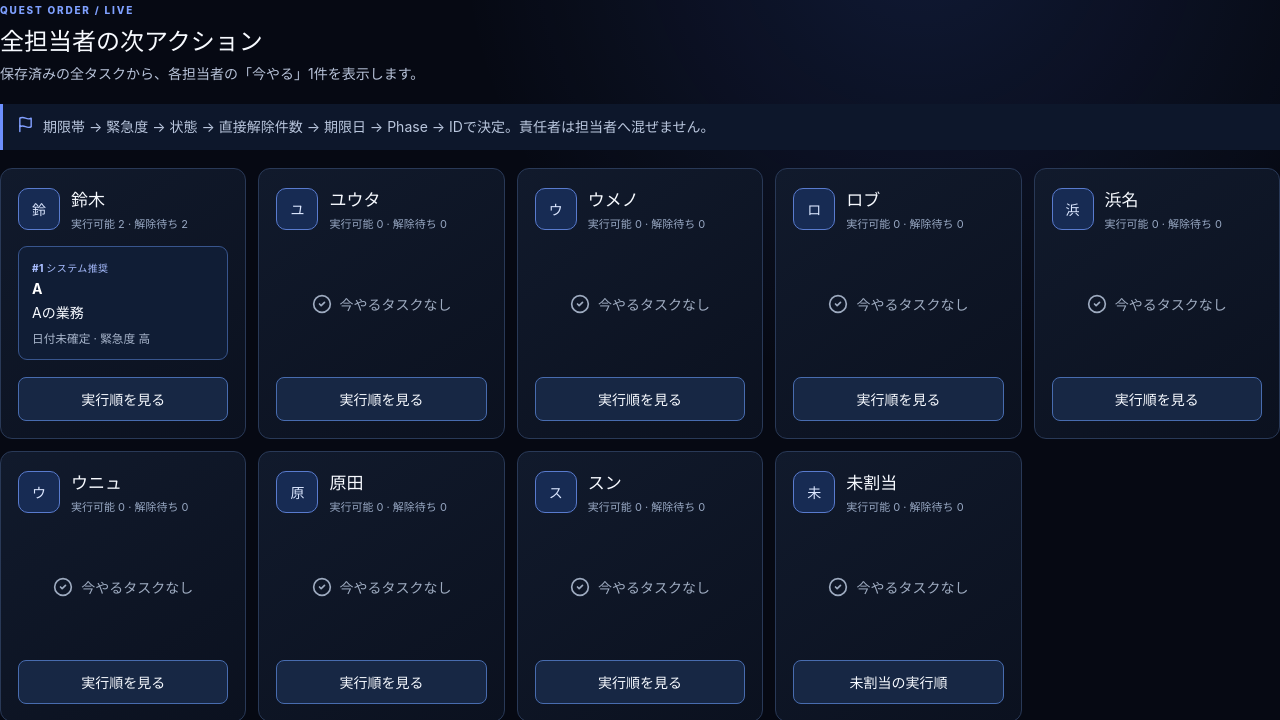
Test: QuestBoard › opens an assignee detail with now, ordered next, waiting and collapsed completion log
This screenshot has width=1280, height=720.
What coordinates should you click on to do the following:
click the button with aria-label "鈴木さんの実行順を開く"
I would click on:
 (123, 399)
Its box is [18, 377, 228, 421].
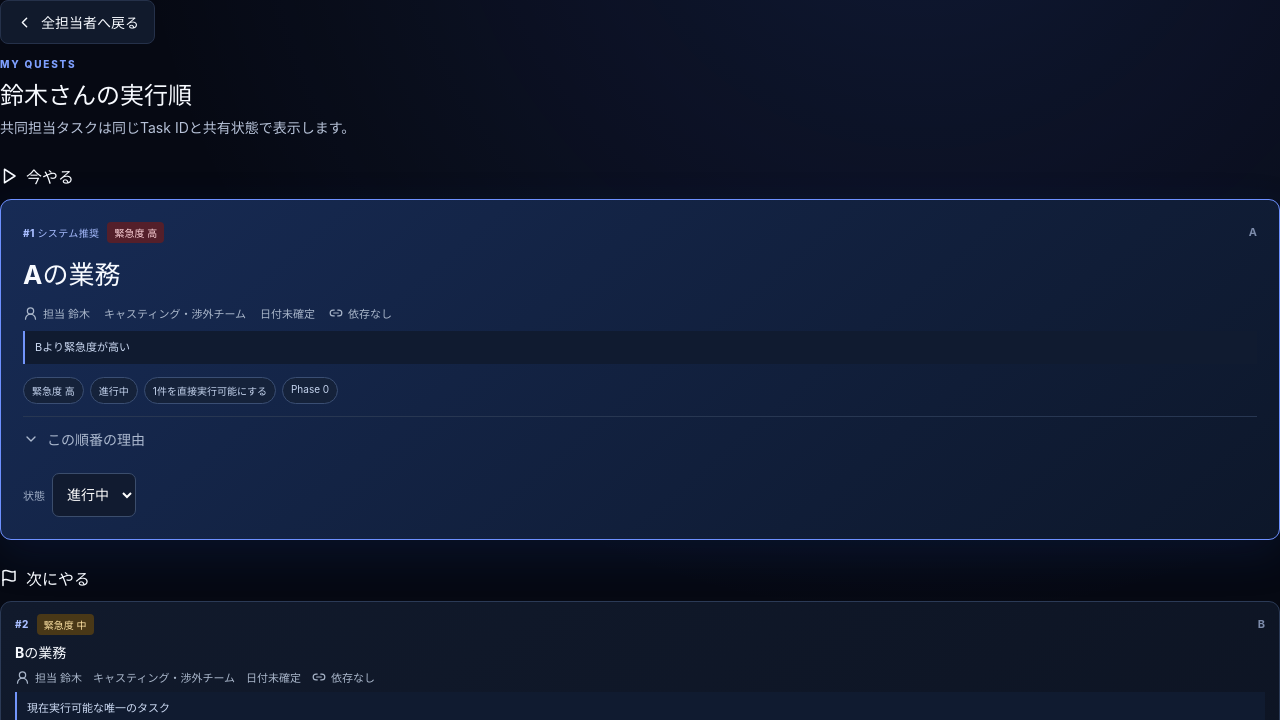
Expected: the heading "鈴木さんの実行順" is shown, [0, 81, 192, 110]
Expected: the heading "Aの業務" is shown, [23, 259, 120, 290]
Expected: the heading "Bの業務" is shown, [15, 644, 66, 661]
